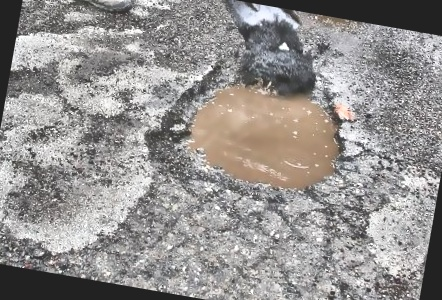pothole: (136, 38, 363, 221)
